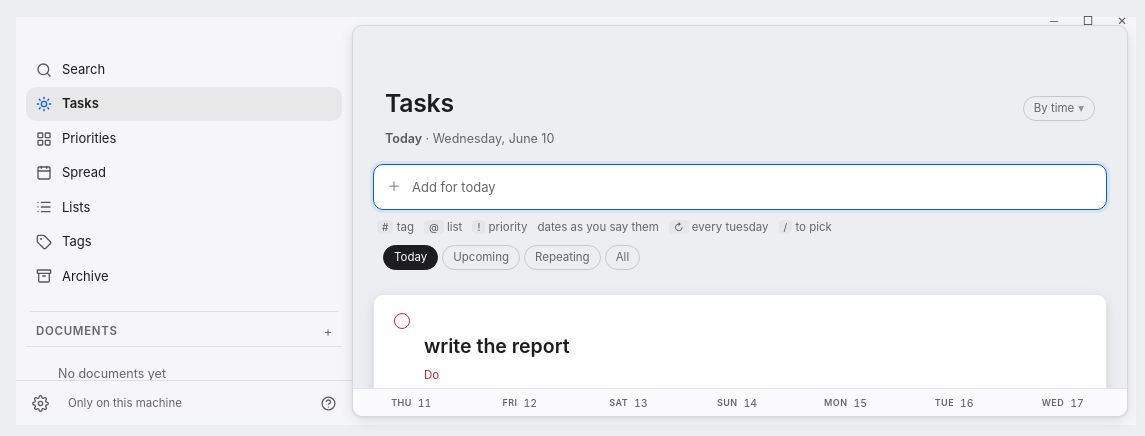
Test: the room the desk keeps for the lanes beside it › keeps room for the day on its own, and for the task beside it
The image size is (1145, 436).
Click the heading "write the report". click: (497, 346)
box: [424, 334, 570, 358]
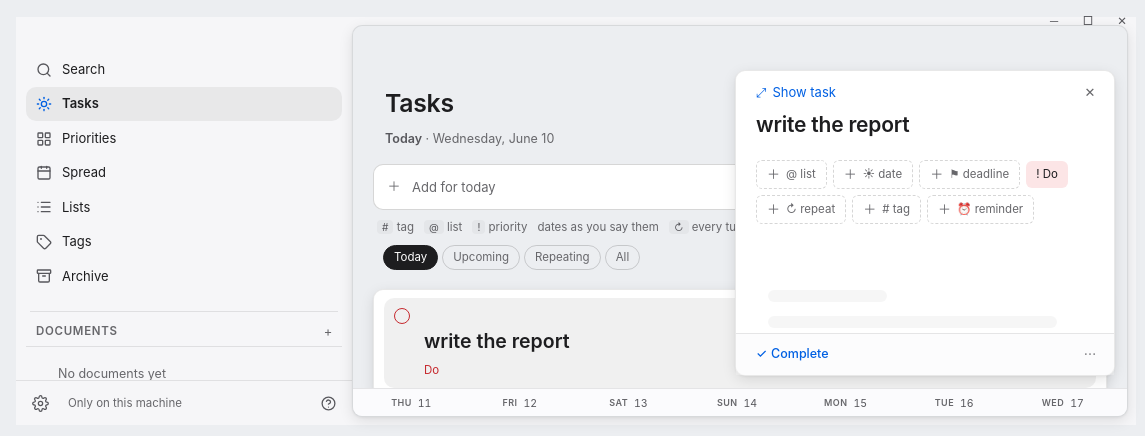
Expected: the text box named "Title" is shown, [736, 111, 1114, 140]
